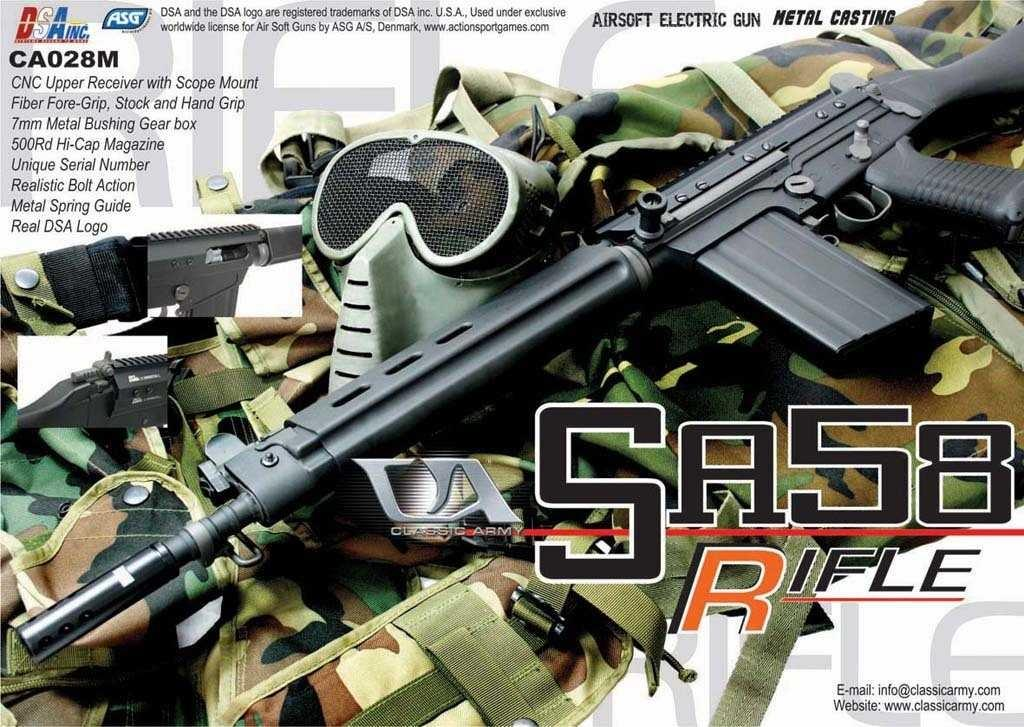heavyweapon: (6, 23, 1024, 669)
